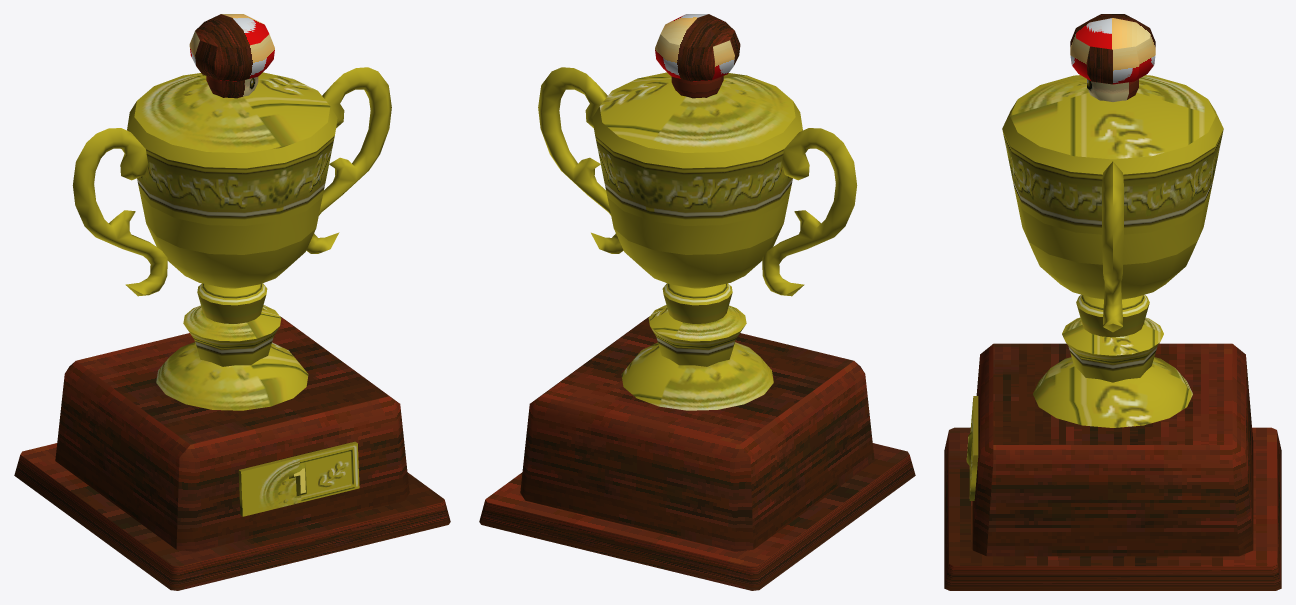
Rendered from awardkinokocup.dae.
3 views of the same model, side by side, from view 1: azimuth 30°, elevation 25°; view 2: azimuth 150°, elevation 25°; view 3: azimuth 270°, elevation 25° (orthographic). The views are drawn at different scales.
Visible parts, largest first — view 1: n0b1, n1b0; view 2: n0b1, n1b0; view 3: n0b1, n1b0.
Part boxes in pixels (bbox=[...]): n0b1: bbox=[14, 14, 450, 590]; n1b0: bbox=[72, 67, 391, 516]; n0b1: bbox=[479, 14, 915, 590]; n1b0: bbox=[538, 67, 857, 410]; n0b1: bbox=[944, 14, 1281, 590]; n1b0: bbox=[966, 75, 1223, 500].
Bounding box in the file's own units: 124 × 179 × 109.
2 materials, 2 textured.
